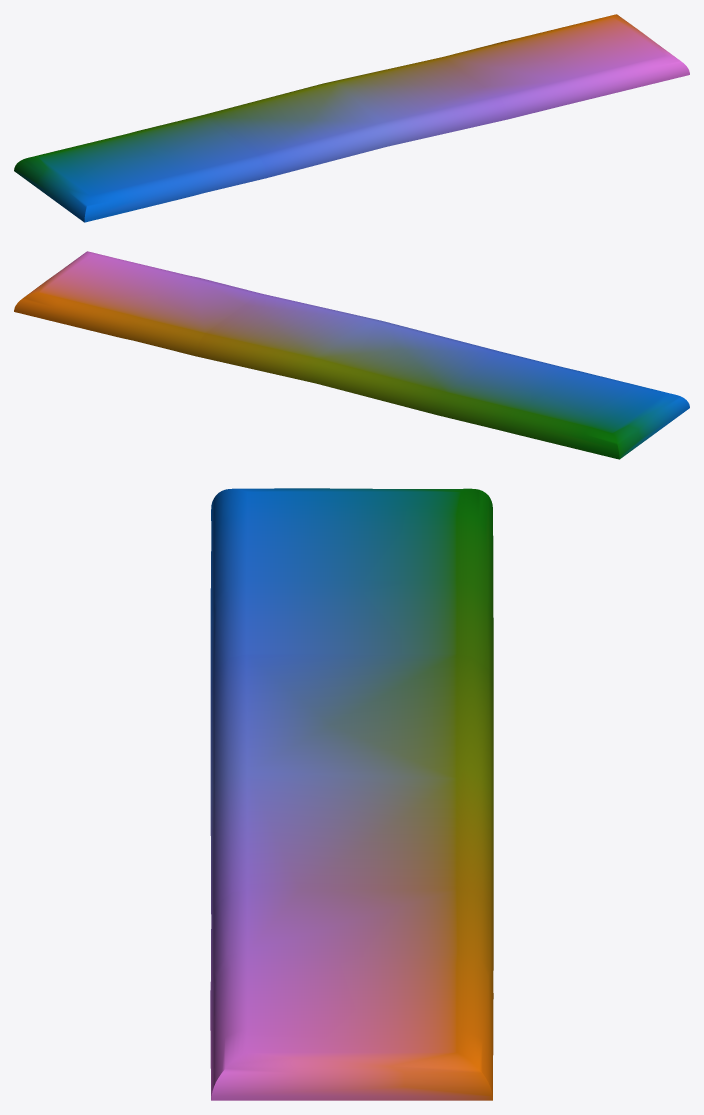
File: SM_ROAD_19_3_0_27_crosswalk.FBX
3 views of the same model, one above another, from view 1: azimuth 30°, elevation 25°; view 2: azimuth 150°, elevation 25°; view 3: azimuth 270°, elevation 25° (orthographic). The views are drawn at different scales.
Visible parts, largest first — view 1: SM_ROAD_19_3_0_27_crosswalk; view 2: SM_ROAD_19_3_0_27_crosswalk; view 3: SM_ROAD_19_3_0_27_crosswalk.
Boxes of the visible parts, left/top/right/bottom form: SM_ROAD_19_3_0_27_crosswalk: left=14, top=14, right=689, bottom=222; SM_ROAD_19_3_0_27_crosswalk: left=14, top=251, right=689, bottom=459; SM_ROAD_19_3_0_27_crosswalk: left=210, top=488, right=493, bottom=1100.
Bounding box in the file's own units: 2004 × 406 × 58.99.
